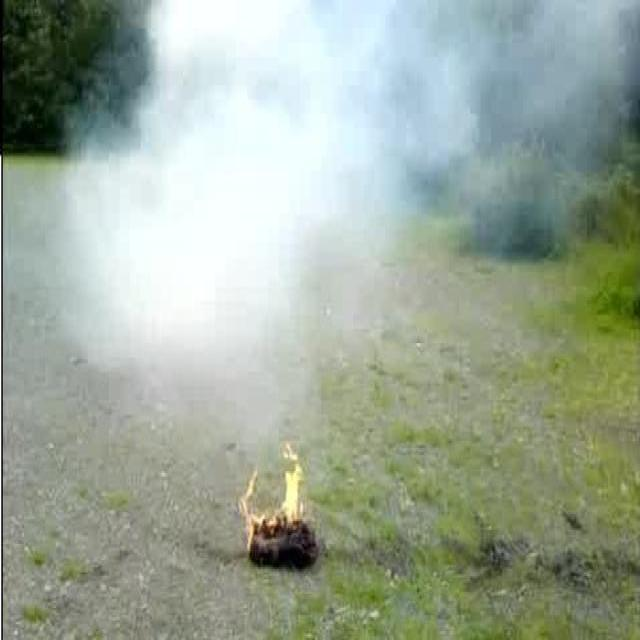Fire: (238, 441, 304, 554)
Smoke: (54, 0, 640, 441)
